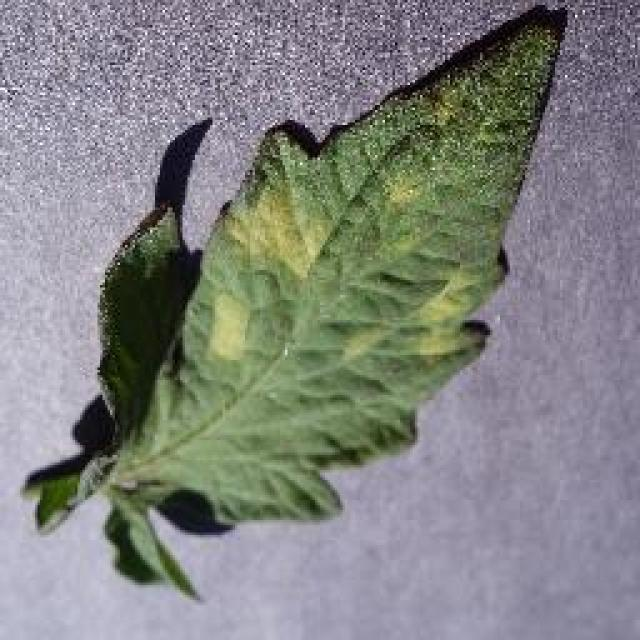Tom_Leaf_Mold: (188, 159, 478, 395)
